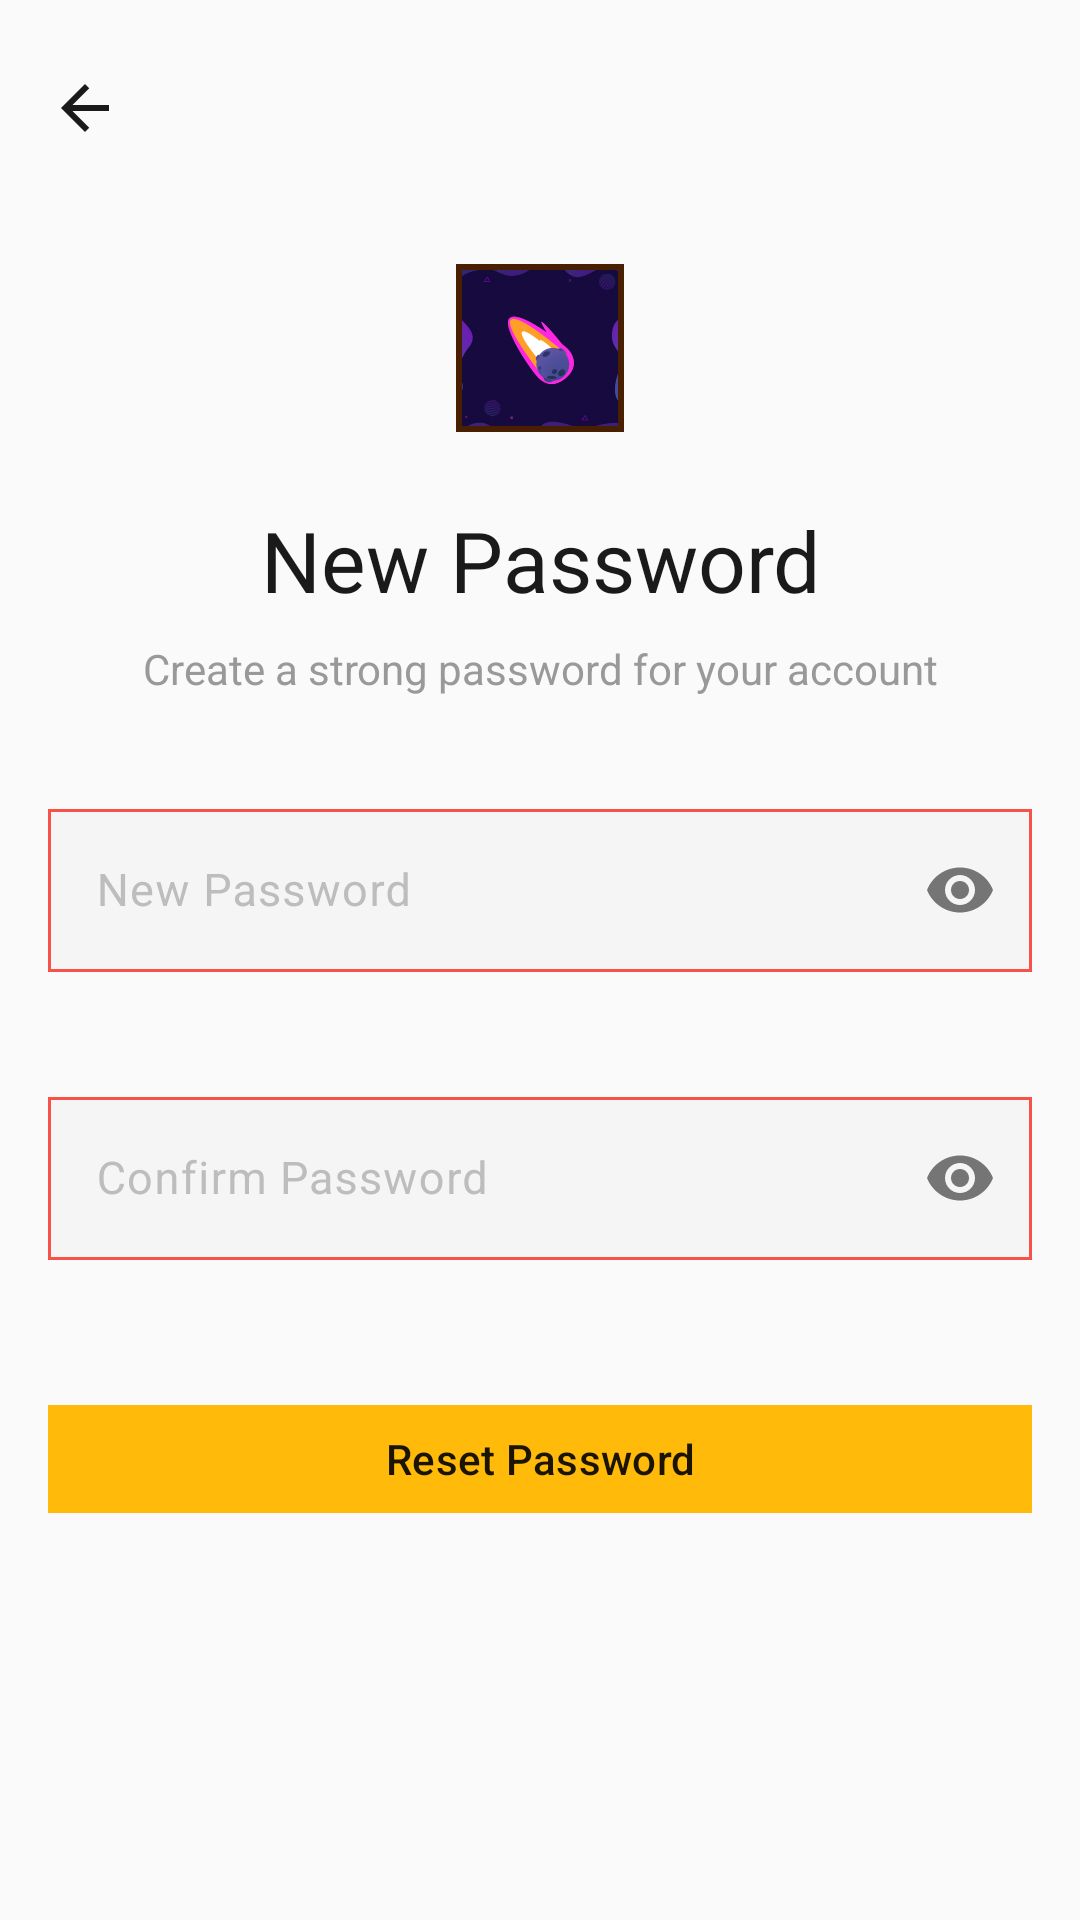

Where to tap for icons on this 1080px x 1920px app screen, as (x,y):
Back: (85,108)
